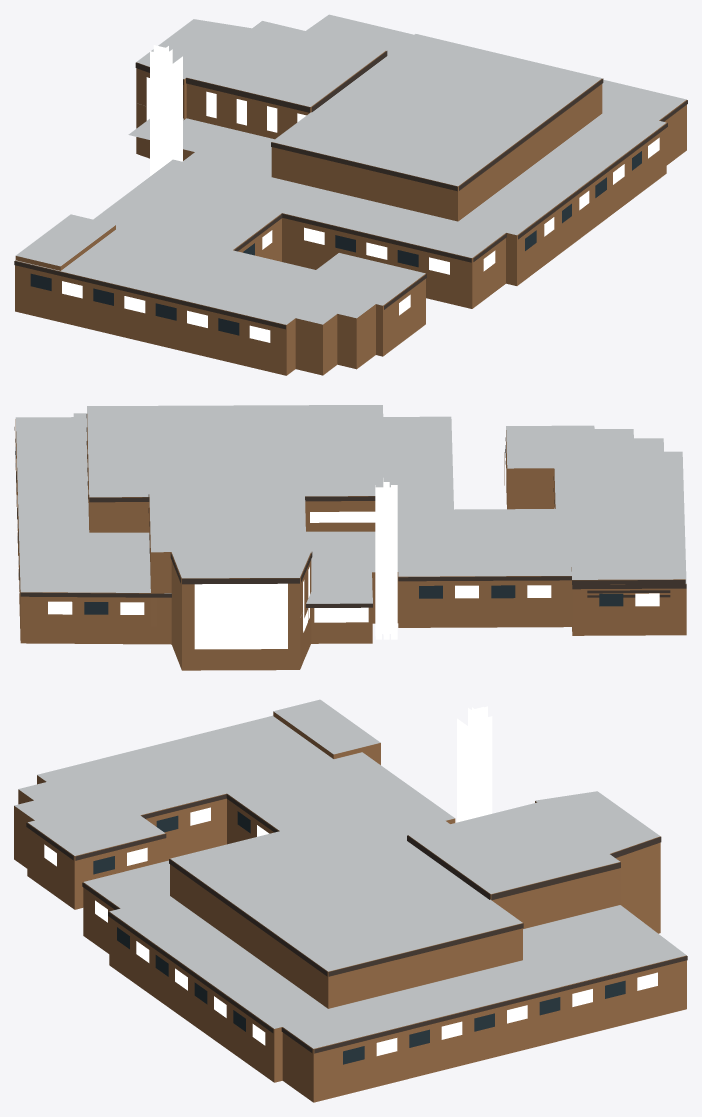
File: br_b276_lds_church_lod1.gltf
The picture shows the model from 3 angles, top to bottom: view 1: azimuth 30°, elevation 25°; view 2: azimuth 150°, elevation 25°; view 3: azimuth 270°, elevation 25°; orthographic projection. The views are drawn at different scales.
Parts seen in each view (by area): view 1: br_b276_lds_church_lod1; view 2: br_b276_lds_church_lod1; view 3: br_b276_lds_church_lod1.
Part boxes in pixels (x1=…): br_b276_lds_church_lod1: x1=14, y1=14, x2=687, y2=375; br_b276_lds_church_lod1: x1=14, y1=405, x2=686, y2=670; br_b276_lds_church_lod1: x1=14, y1=699, x2=687, y2=1102.
Bounding box in the file's own units: 77.74 × 17.34 × 64.
